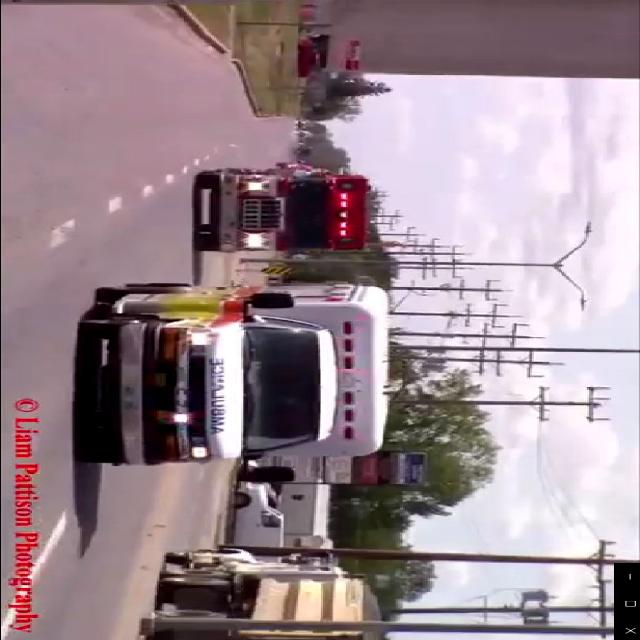emergency: (66, 272, 400, 489), (184, 164, 378, 258)
